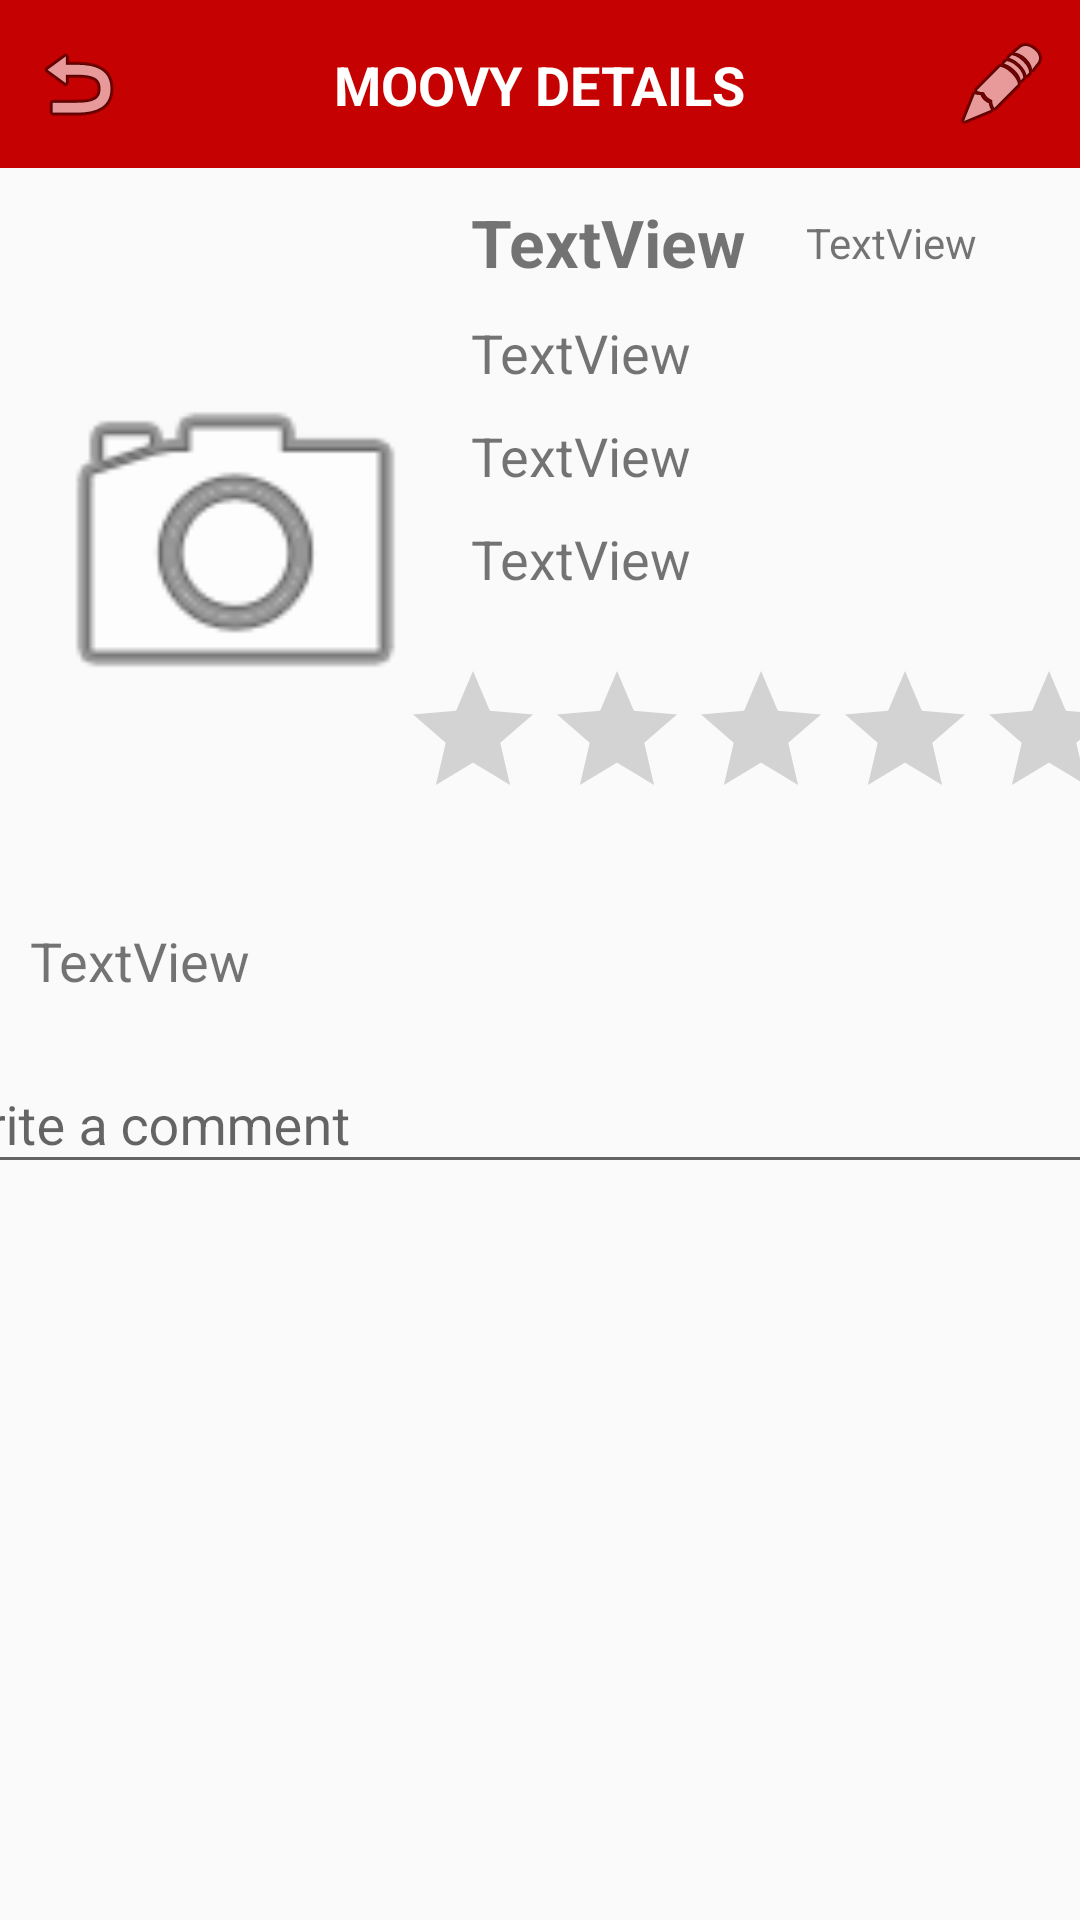

Locate icon controls on the screen. Image size 1080×1920, boxes as (x1, y1, x2, y2).
camera: (76, 413, 395, 666)
edit: (961, 43, 1042, 124)
revert: (45, 53, 114, 116)
